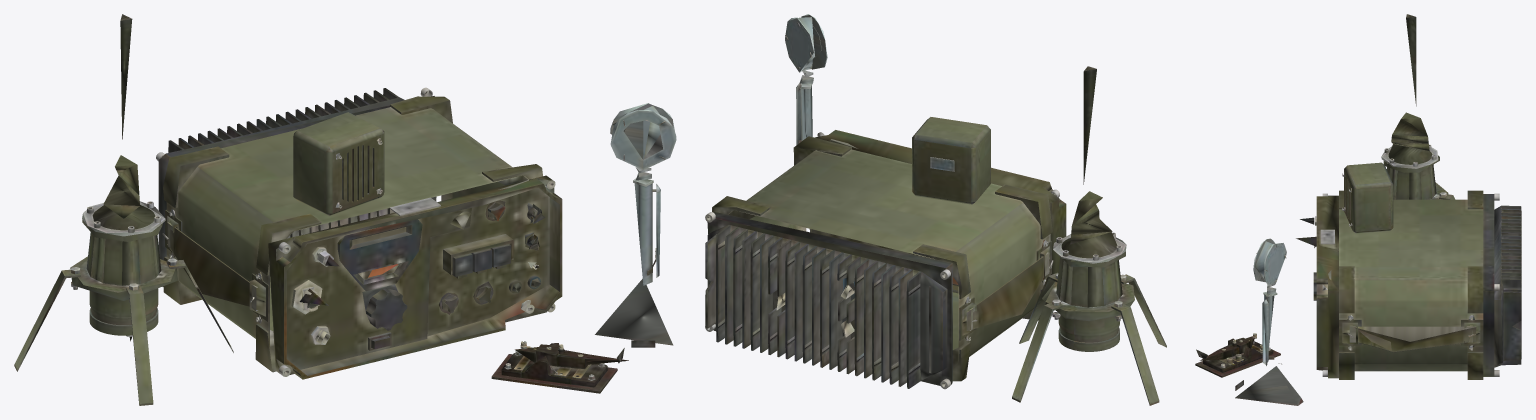
File: radio-vintage.lite.8c90b233.glb
The picture shows the model from 3 angles, left to right: view 1: azimuth 30°, elevation 25°; view 2: azimuth 150°, elevation 25°; view 3: azimuth 270°, elevation 25°; orthographic projection. The views are drawn at different scales.
Parts seen in each view (by area): view 1: model; view 2: model; view 3: model.
Part boxes in pixels (x1,y1,x2,y2): model: (14, 14, 676, 405); model: (705, 14, 1166, 405); model: (1195, 14, 1521, 405).
Size of the model in its own units: 0.548 by 0.3317 by 0.4102.
2 materials, 2 textured.
